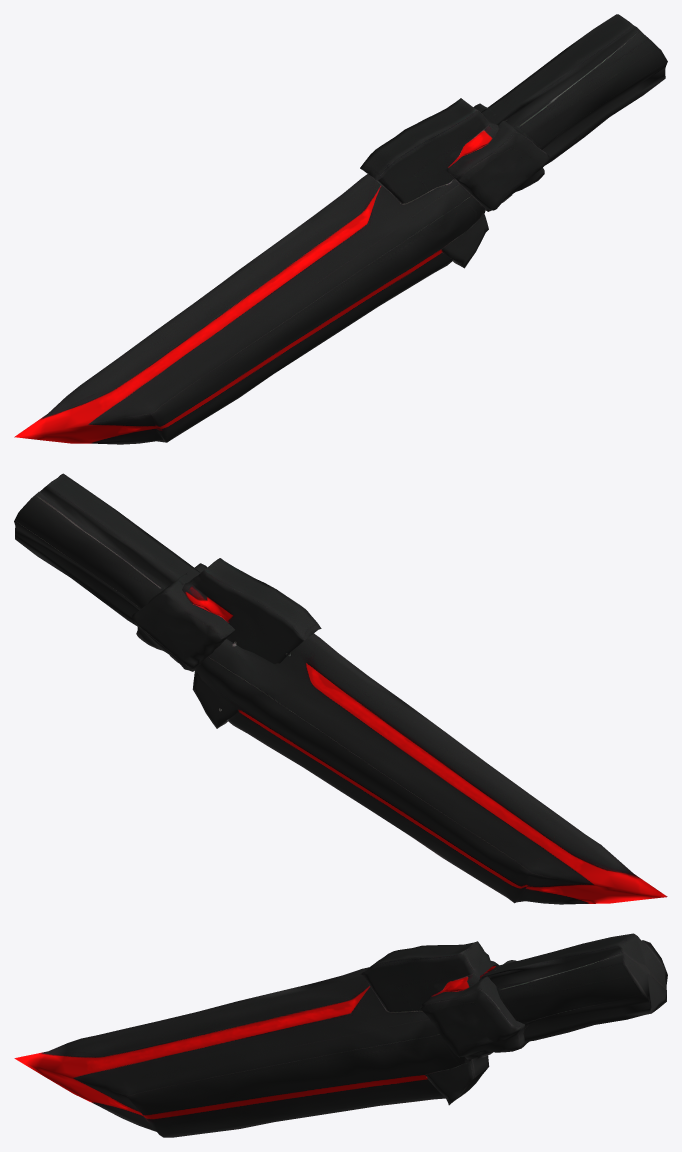
File: Meshy_AI_Crimson_Edge_0721054521_texture.fbx
The picture shows the model from 3 angles, top to bottom: view 1: azimuth 30°, elevation 25°; view 2: azimuth 150°, elevation 25°; view 3: azimuth 330°, elevation 25°; orthographic projection.
Parts seen in each view (by area): view 1: Mesh_0; view 2: Mesh_0; view 3: Mesh_0.
Boxes of the visible parts, x1=… form: Mesh_0: x1=14, y1=14, x2=667, y2=444; Mesh_0: x1=14, y1=473, x2=667, y2=904; Mesh_0: x1=14, y1=933, x2=667, y2=1137.
Size of the model in its own units: 99.8 by 46 by 10.72.
Materials: 1 (1 with a texture image).
